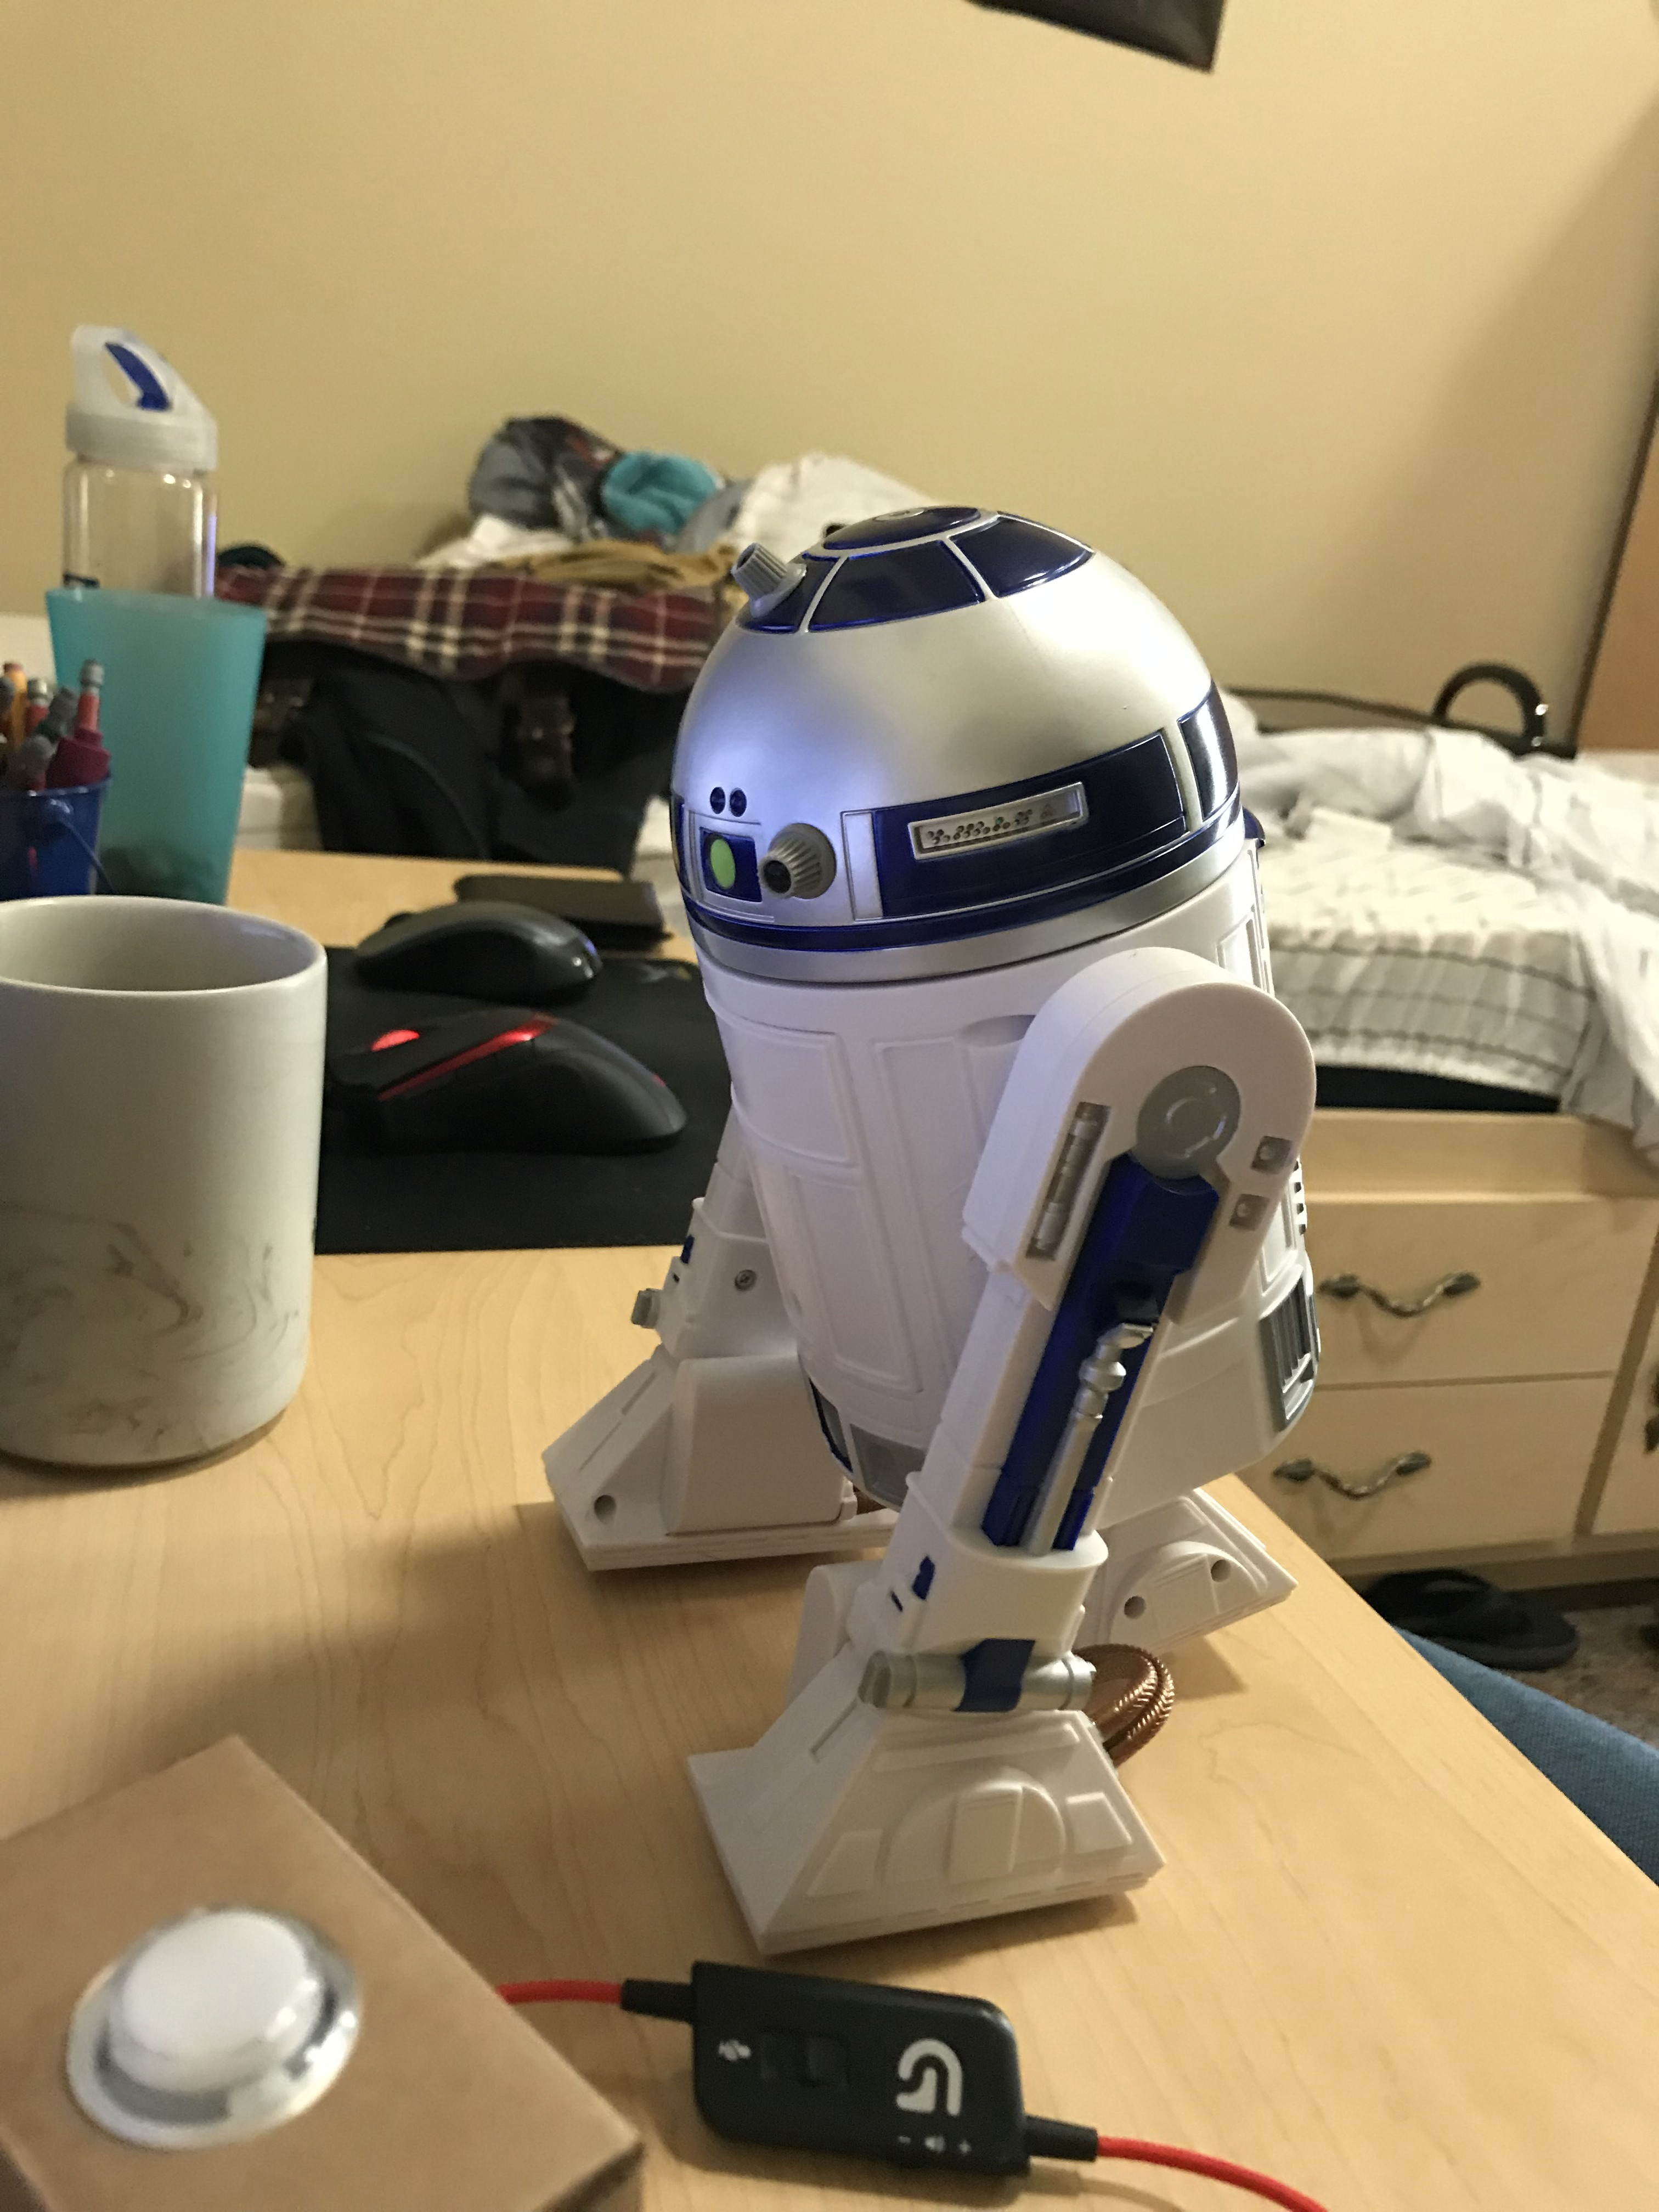r2d2: (540, 498, 1330, 1958)
